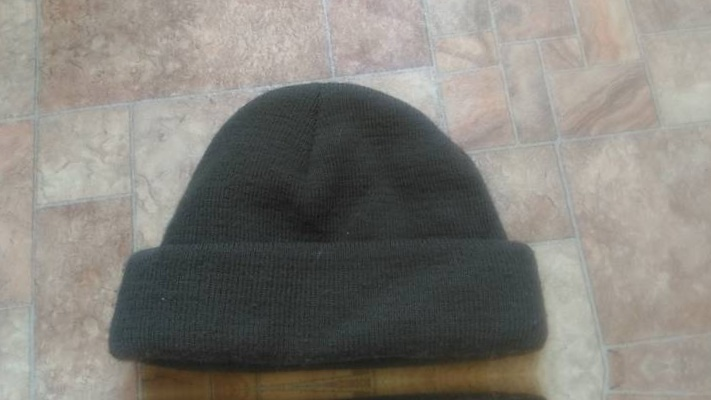Hat: (81, 67, 550, 382), (98, 389, 567, 400)
